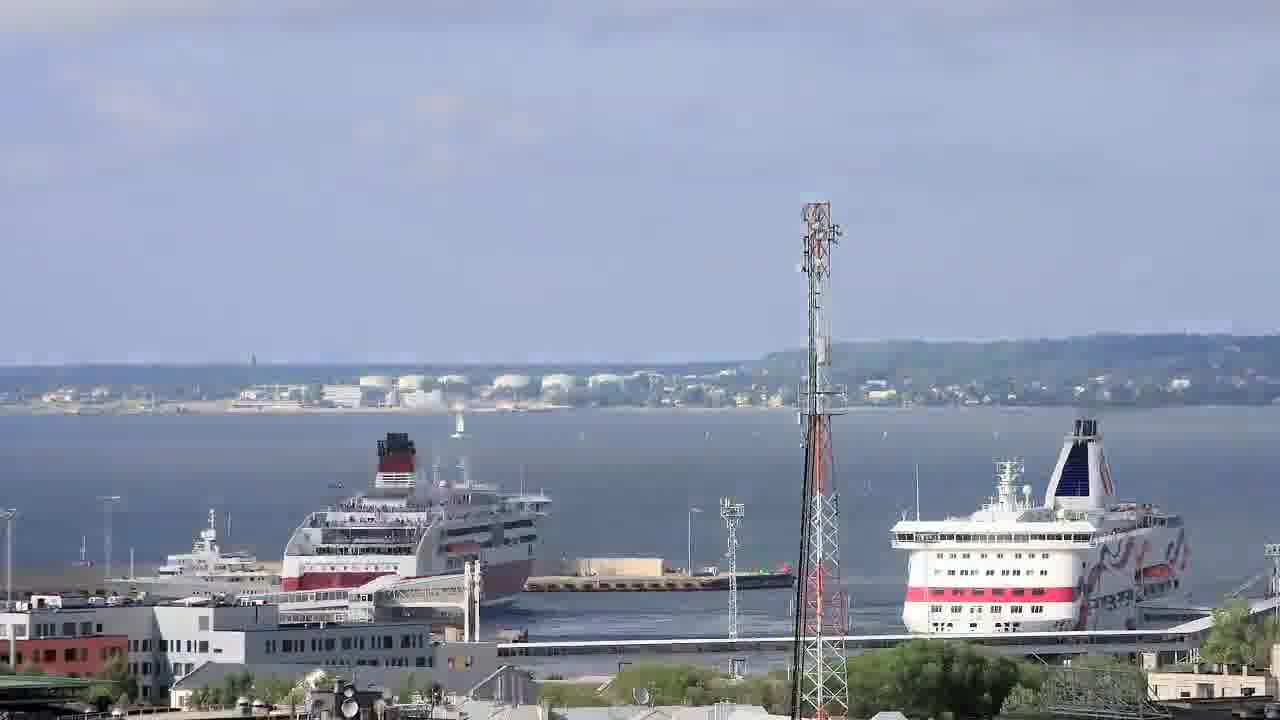type-2: (436, 391, 485, 454)
type-3: (868, 415, 1225, 638), (277, 435, 569, 625), (88, 524, 282, 613)
